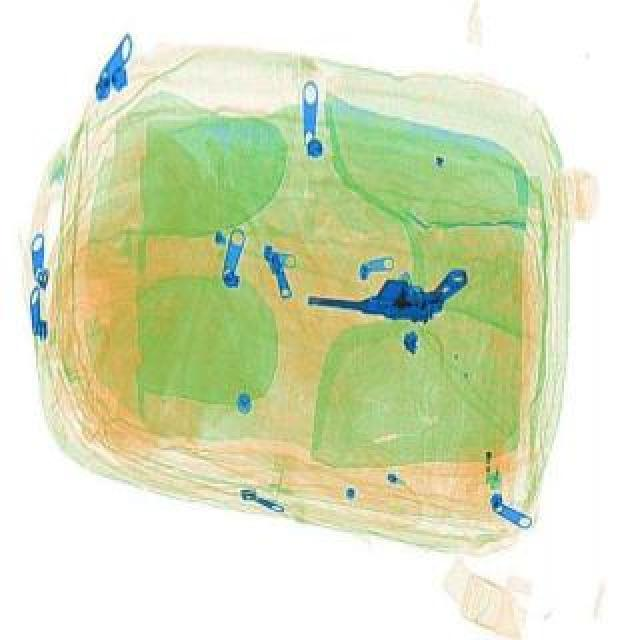gun: (304, 266, 472, 328)
